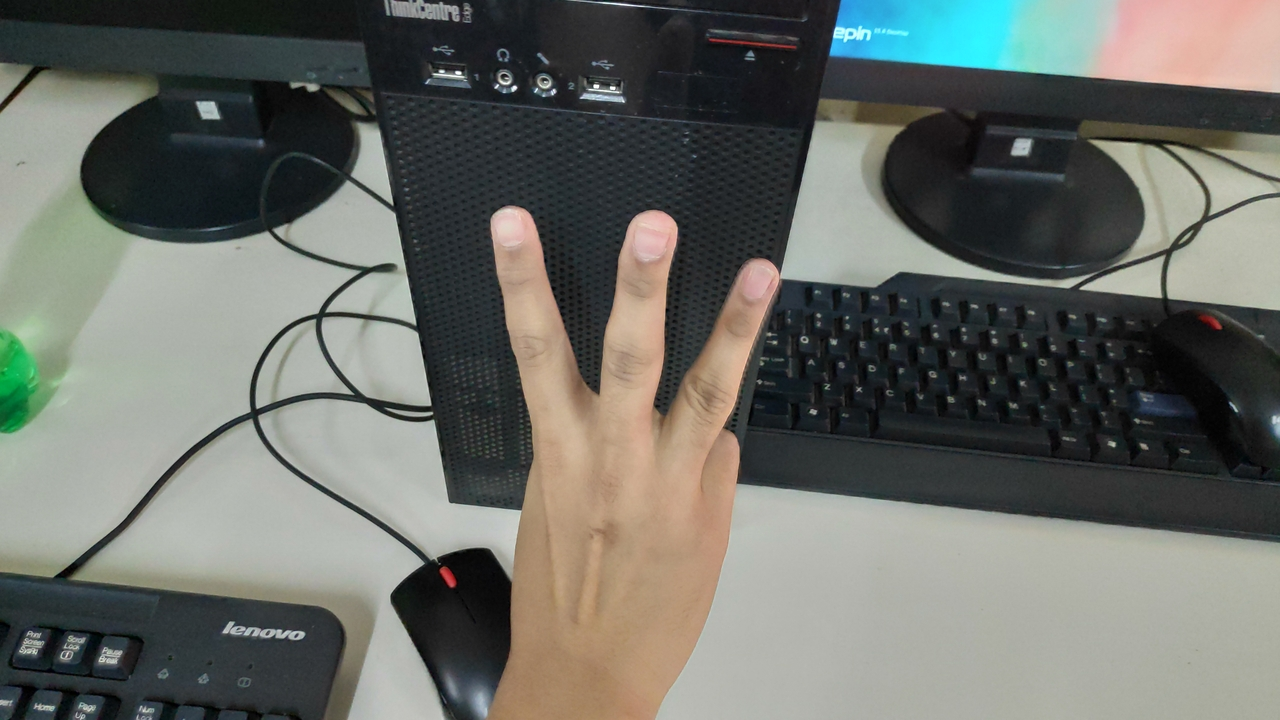fingertip: (612, 200, 688, 272), (478, 194, 548, 262), (720, 248, 788, 312)
